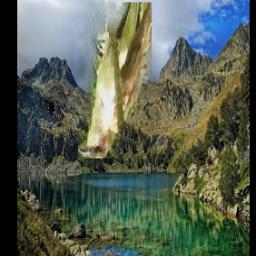Cuckoo: (79, 3, 153, 159)
Woodpecker: (44, 98, 60, 119)
